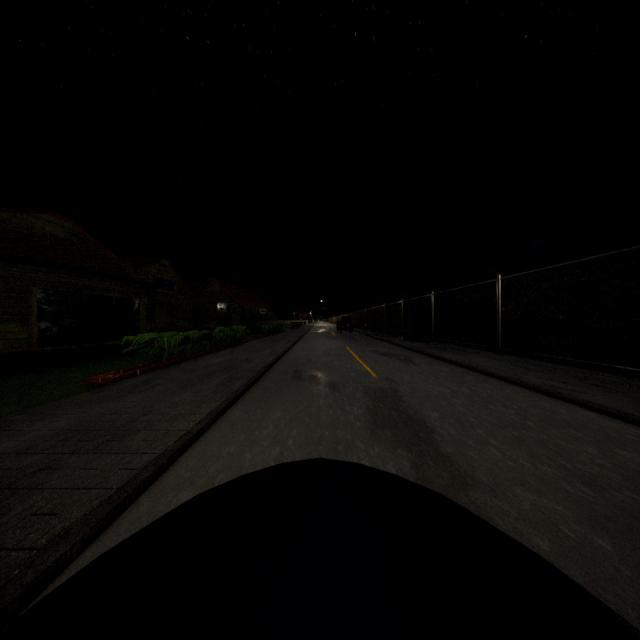Vehicle: (3, 455, 639, 640), (336, 316, 354, 334)
